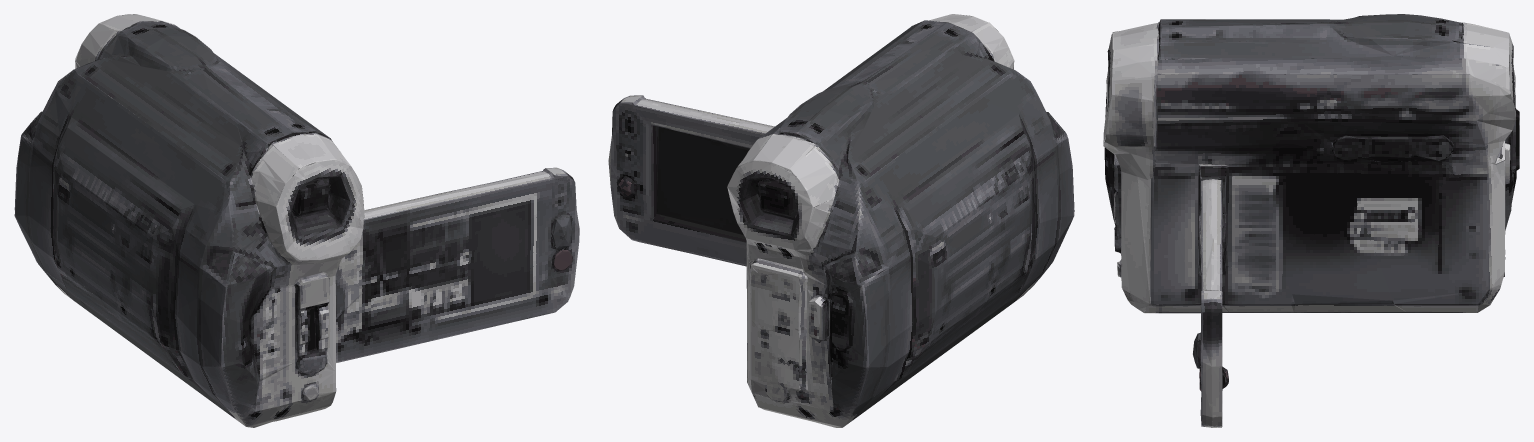
The picture shows the model from 3 angles, left to right: view 1: azimuth 30°, elevation 25°; view 2: azimuth 150°, elevation 25°; view 3: azimuth 270°, elevation 25°; orthographic projection.
Parts seen in each view (by area): view 1: geometry_0; view 2: geometry_0; view 3: geometry_0.
Part boxes in pixels (<box>): geometry_0: <box>14,14,579,427</box>; geometry_0: <box>608,14,1074,427</box>; geometry_0: <box>1103,14,1519,427</box>.
Bounding box in the file's own units: 0.9991 × 0.6402 × 0.8613.
Materials: 1 (1 with a texture image).
